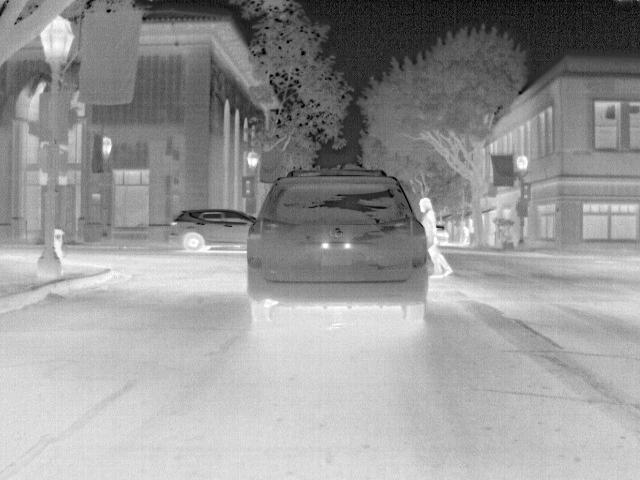car: (244, 166, 431, 325), (170, 207, 258, 252), (434, 223, 453, 248)
person: (418, 195, 458, 277)
